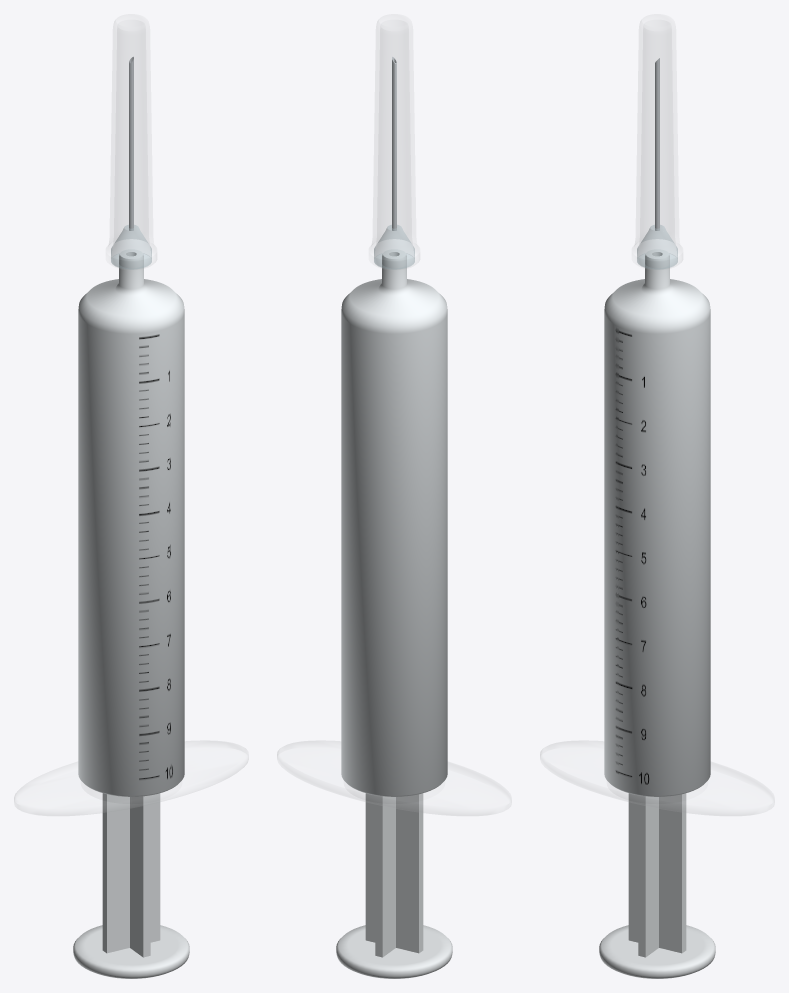
Rendered from Syringe_With_Water.fbx.
The picture shows the model from 3 angles, left to right: view 1: azimuth 30°, elevation 25°; view 2: azimuth 150°, elevation 25°; view 3: azimuth 330°, elevation 25°; orthographic projection.
Parts seen in each view (by area): view 1: Barrel, Protective_Cap, Plunger_Rod, Finger_Flange, Thumb_Pad, Needle_Hub, Steel_Needle; view 2: Barrel, Protective_Cap, Plunger_Rod, Finger_Flange, Thumb_Pad, Needle_Hub, Steel_Needle; view 3: Barrel, Protective_Cap, Plunger_Rod, Finger_Flange, Thumb_Pad, Needle_Hub, Steel_Needle.
Part boxes in pixels (<box>): Barrel: <box>78,249,184,796</box>; Protective_Cap: <box>106,14,156,269</box>; Plunger_Rod: <box>102,793,160,957</box>; Finger_Flange: <box>14,740,248,815</box>; Thumb_Pad: <box>73,925,189,978</box>; Needle_Hub: <box>111,225,151,269</box>; Steel_Needle: <box>129,56,133,230</box>; Barrel: <box>341,249,447,796</box>; Protective_Cap: <box>369,14,419,269</box>; Plunger_Rod: <box>365,793,423,957</box>; Finger_Flange: <box>277,740,511,815</box>; Thumb_Pad: <box>336,925,452,978</box>; Needle_Hub: <box>374,225,414,269</box>; Steel_Needle: <box>392,56,396,230</box>; Barrel: <box>604,249,710,796</box>; Protective_Cap: <box>632,14,682,269</box>; Plunger_Rod: <box>628,793,686,957</box>; Finger_Flange: <box>540,740,774,815</box>; Thumb_Pad: <box>599,925,715,978</box>; Needle_Hub: <box>637,225,677,269</box>; Steel_Needle: <box>655,58,659,230</box>.
Size of the model in its own units: 3.96 by 15.5 by 1.75.
8 materials, 1 textured.
